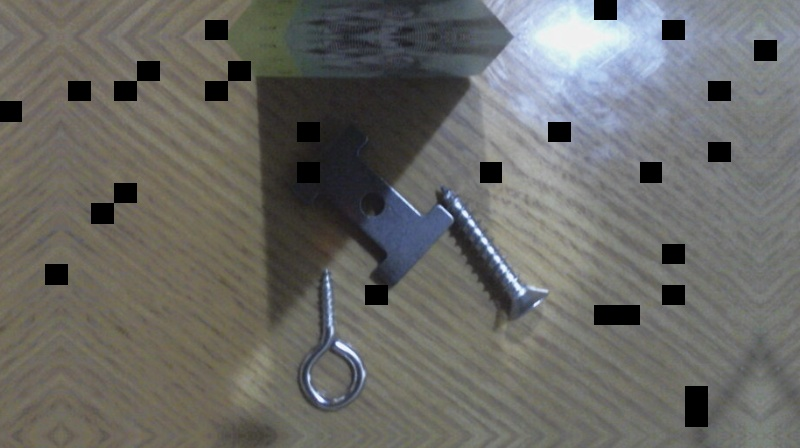O001: (292, 265, 371, 414)
O002: (285, 118, 455, 289)
S001: (435, 181, 553, 326)
